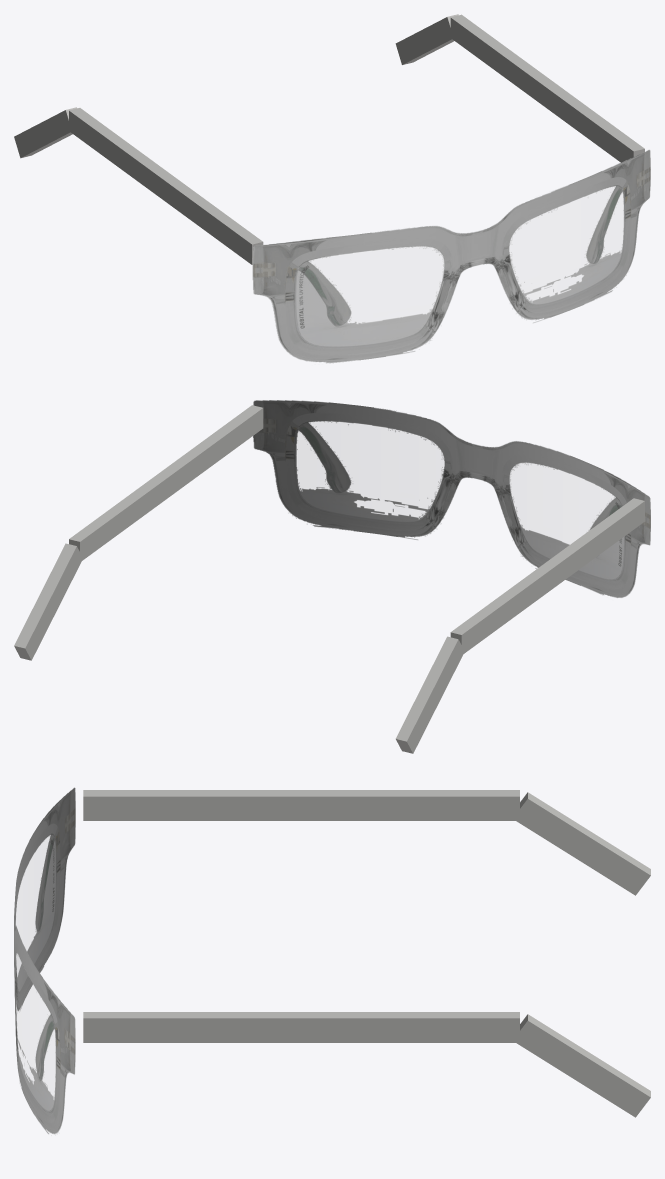
3 renders of one model, top to bottom at view 1: azimuth 30°, elevation 25°; view 2: azimuth 150°, elevation 25°; view 3: azimuth 270°, elevation 25°, orthographic. The views are drawn at different scales.
Visible parts, largest first — view 1: anteojo; view 2: anteojo; view 3: anteojo.
Part boxes in pixels (box(x1,y1,x2,y2)): anteojo: box(14, 14, 650, 363); anteojo: box(14, 400, 650, 753); anteojo: box(14, 787, 650, 1135).
Size of the model in its own units: 0.142 by 0.043 by 0.165.
2 materials, 1 textured.
